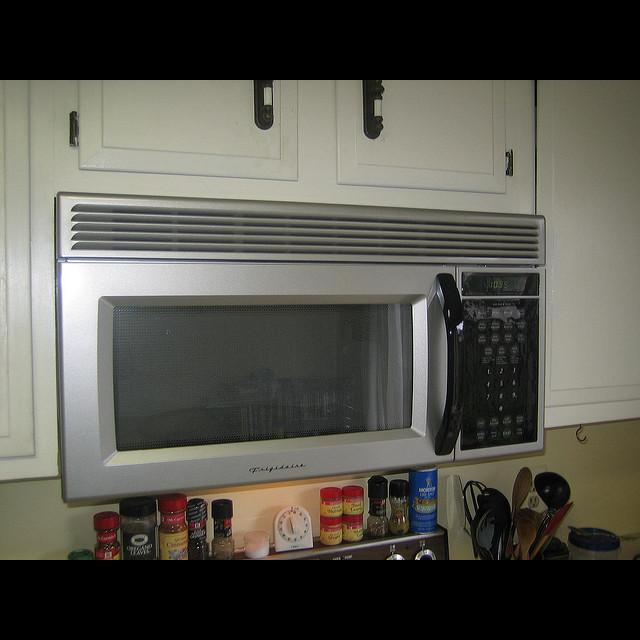Microwave: (56, 193, 545, 508)
Oven: (289, 526, 450, 554)
